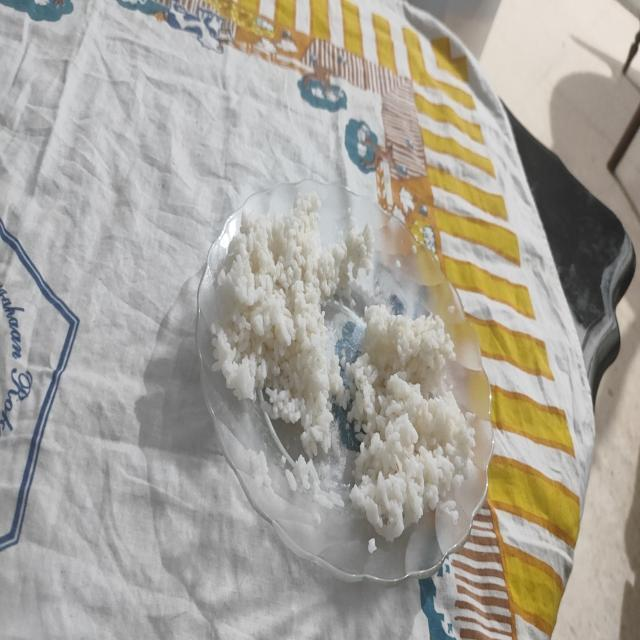nasi_putih: (208, 192, 374, 458), (346, 305, 474, 540)
